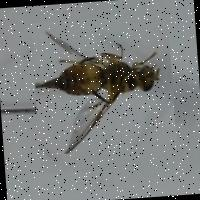Oriental-fruit-fly: (31, 12, 178, 172)
